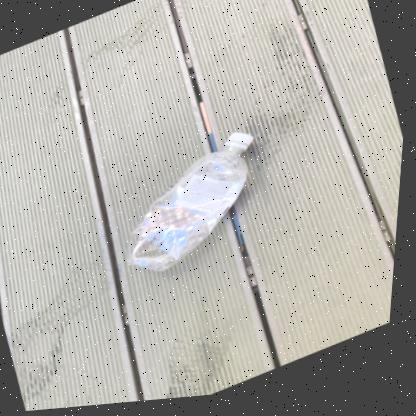Plastic: (132, 138, 257, 275)
